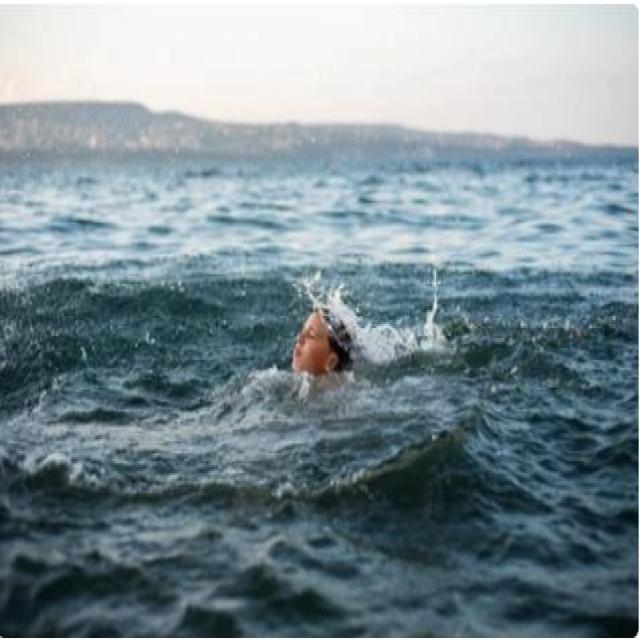Out of Water: (290, 298, 360, 380)
